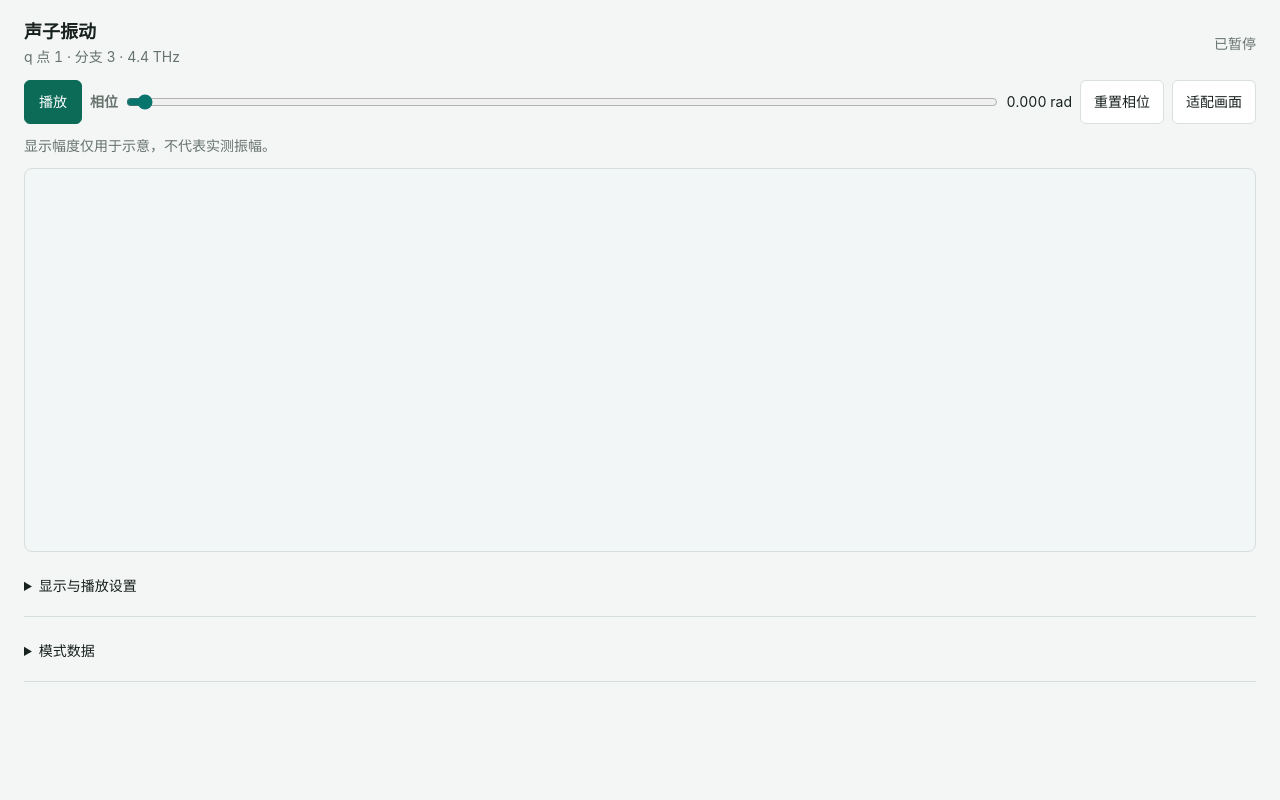
Test: PhononAnimationSurface › plays with one RAF and pauses cleanly
Click the button with aria-label "播放声子动画" at [53, 102], box x1=24 y1=80 x2=82 y2=124
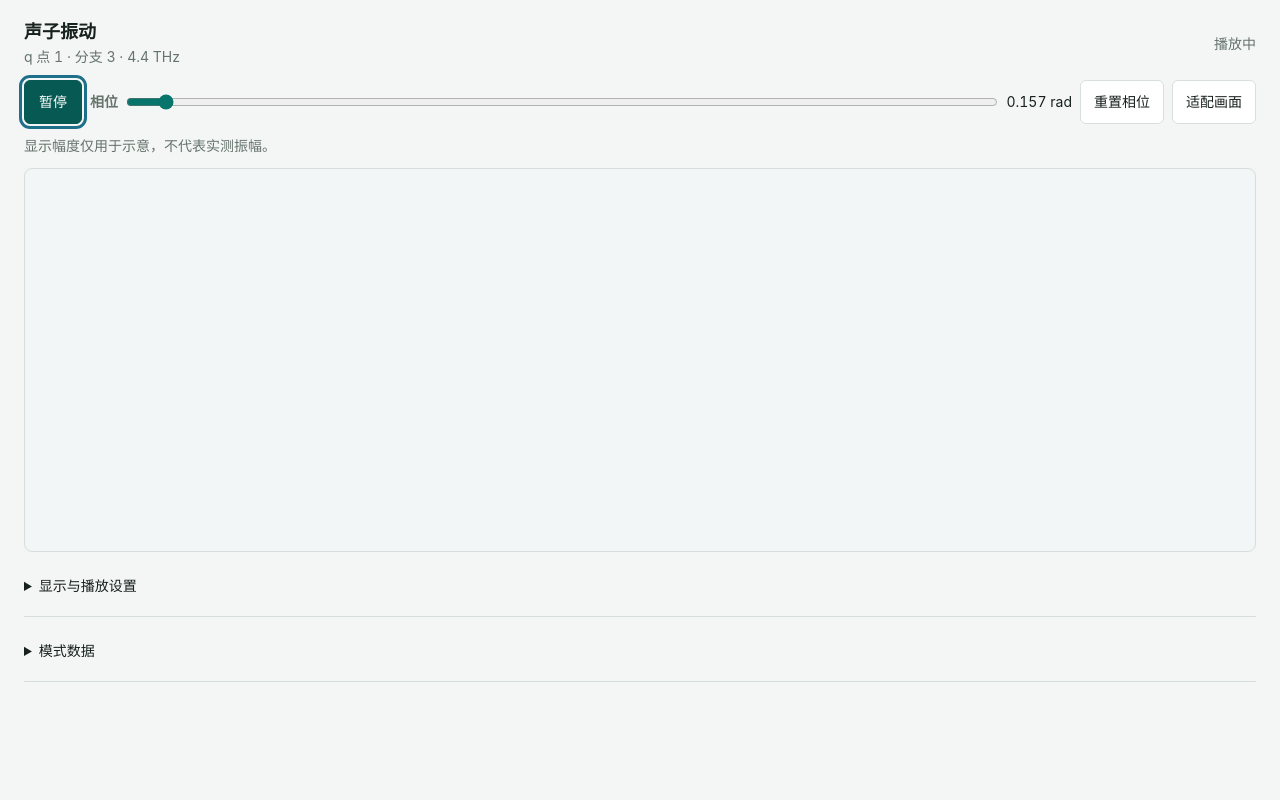
Now the text with test id "phonon-animation-state" reads "播放中", box x1=1214 y1=35 x2=1256 y2=52
Click the button with aria-label "暂停声子动画" at [53, 102], box x1=24 y1=80 x2=82 y2=124
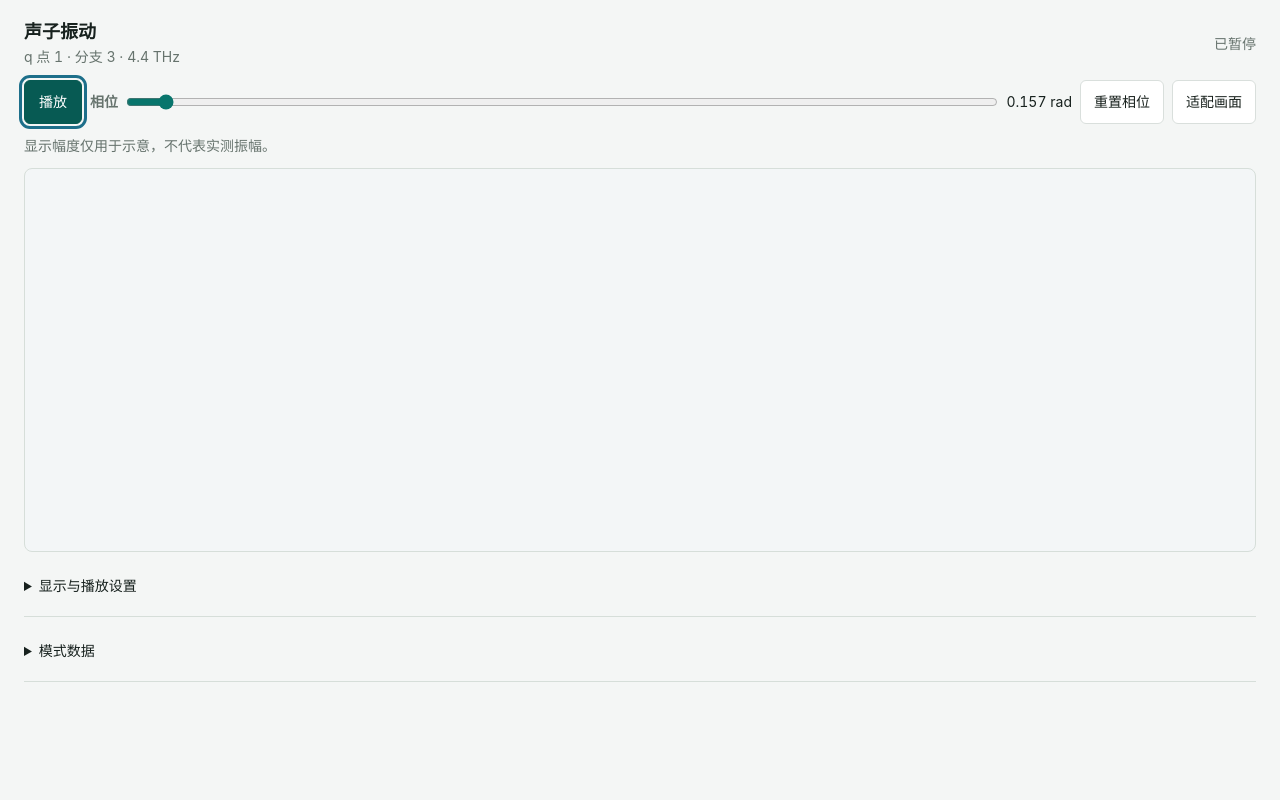
Now the text with test id "phonon-animation-state" reads "已暂停", box x1=1214 y1=35 x2=1256 y2=52
